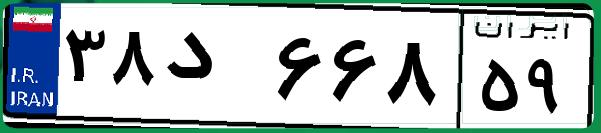3: (57, 26, 110, 100)
5: (475, 38, 525, 113)
6: (270, 28, 330, 110), (330, 28, 385, 110)
8: (385, 28, 445, 110), (110, 28, 158, 98)
9: (525, 38, 570, 115)
د: (158, 20, 270, 120)
